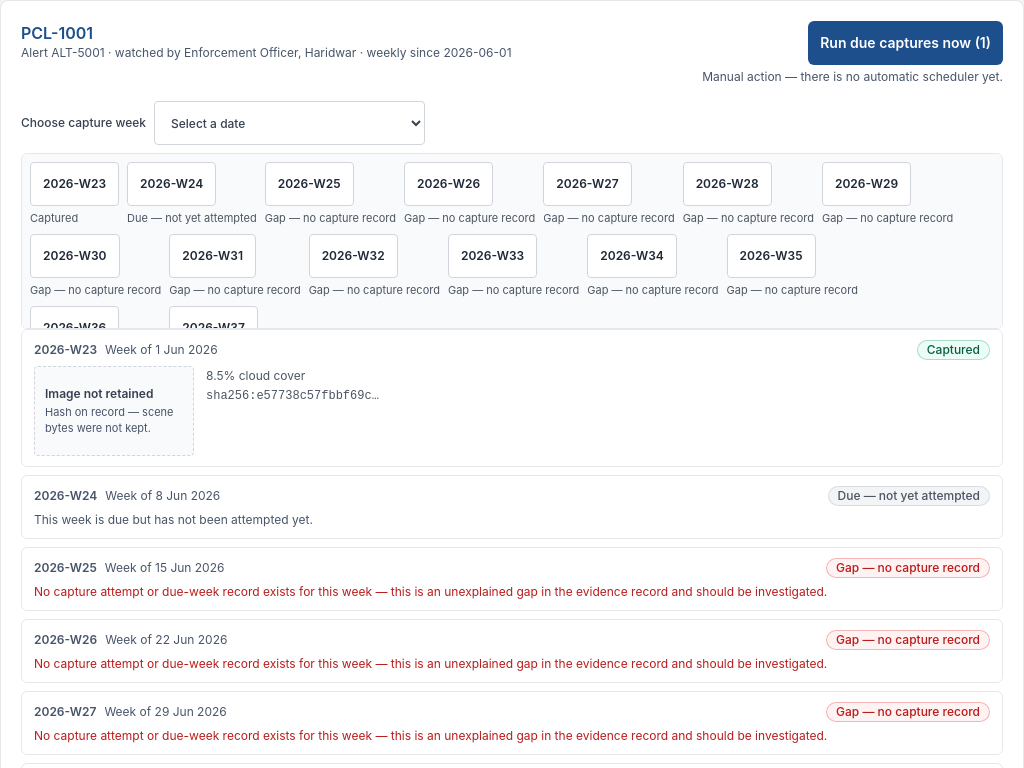
Test: WatchlistEntryCard › reports when a run finds nothing due
The image size is (1024, 768).
Click the button with aria-label "Run due captures now for PCL-1001 (1 due)". click: click(906, 43)
box: top-left (808, 21), bottom-right (1003, 65)
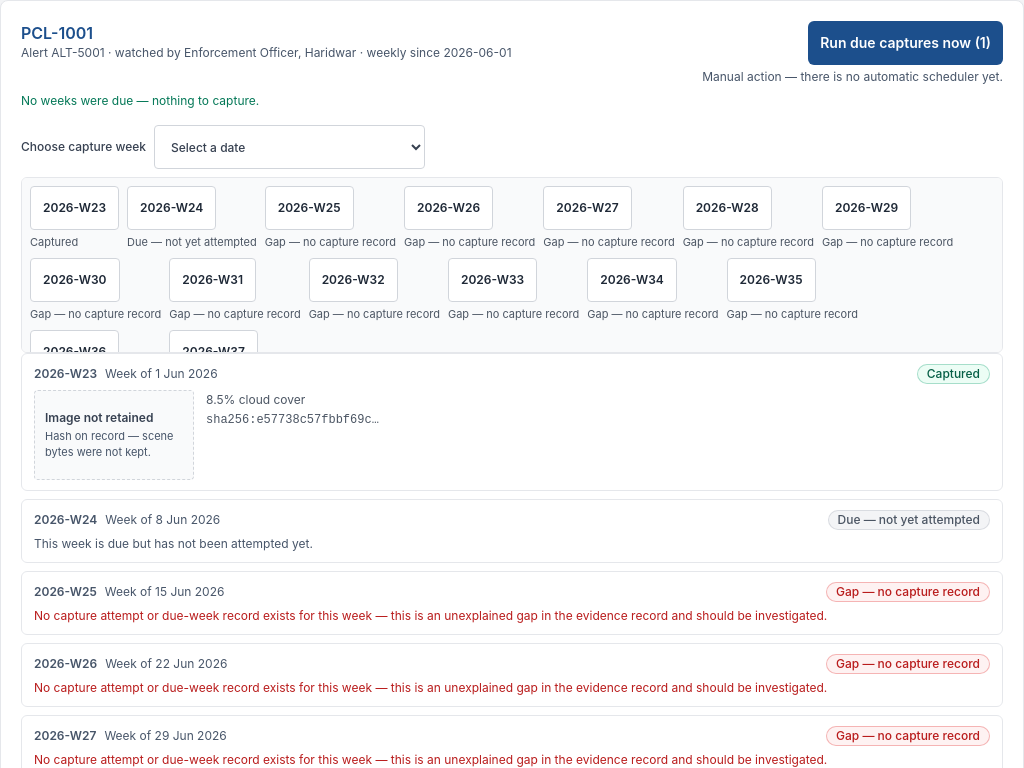
expect the text with test id "run-captures-notice" reads "No weeks were due — nothing to capture.": met, box top-left (21, 93), bottom-right (259, 108)
